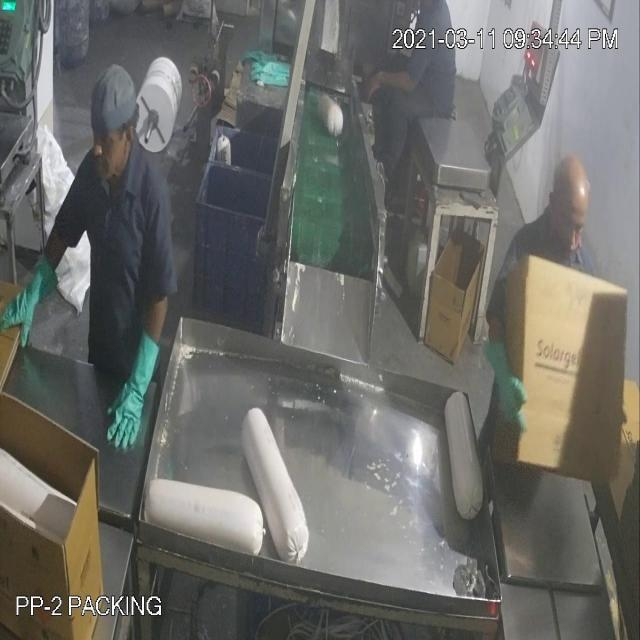Gloves: (34, 49, 392, 390)
